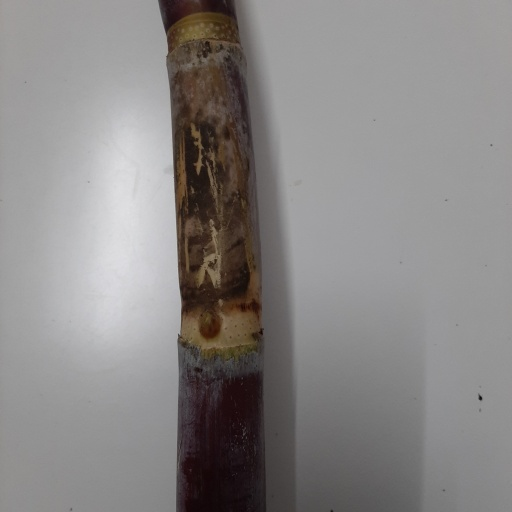Bud: (196, 310, 221, 339)
